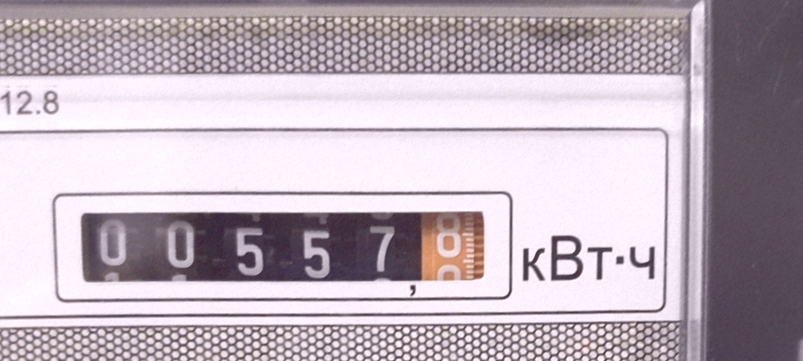0: (95, 214, 131, 271), (163, 218, 198, 271)
5: (298, 223, 337, 283), (231, 223, 267, 280)
7: (363, 221, 397, 276)
8: (434, 211, 463, 262)
screen: (48, 173, 520, 318)
